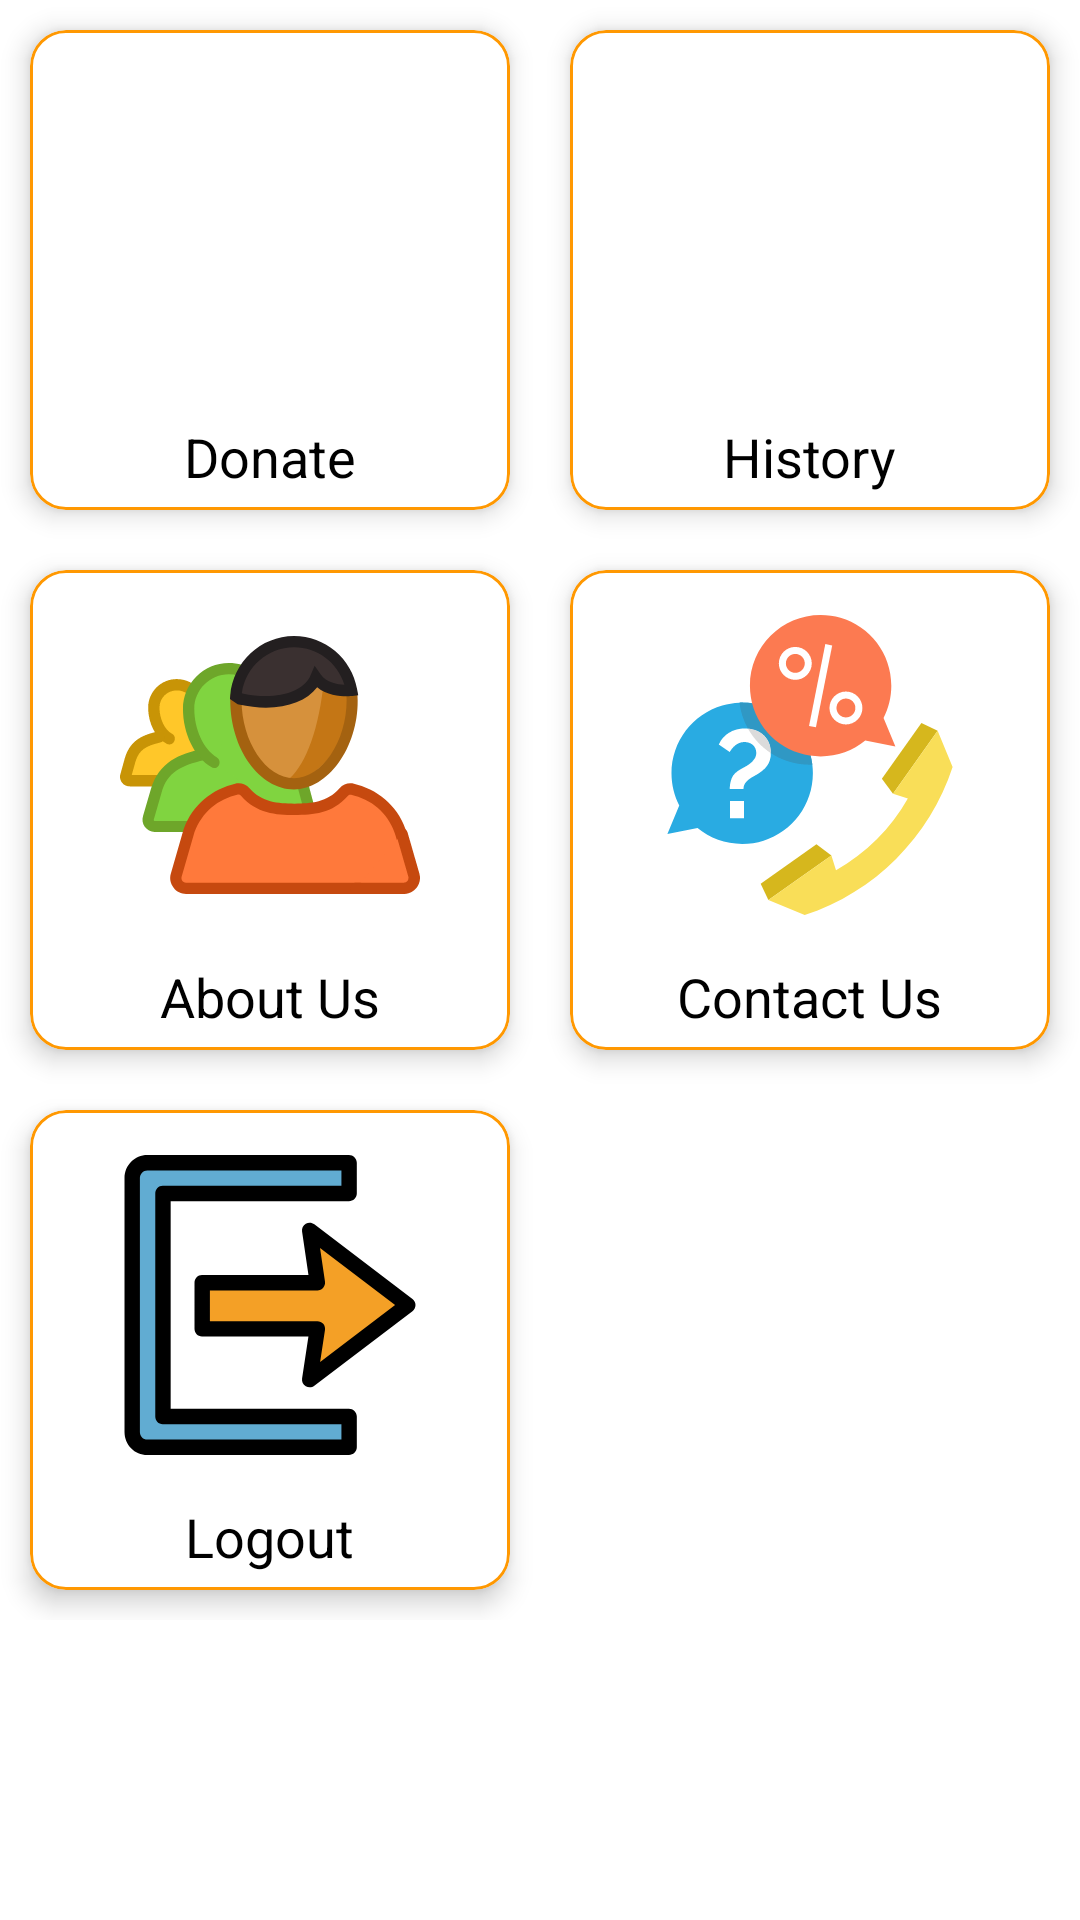

Icon click points for this 1080px x 1920px phone screenshot, format point (x, y):
customer service: point (810, 765)
group people: point (270, 765)
